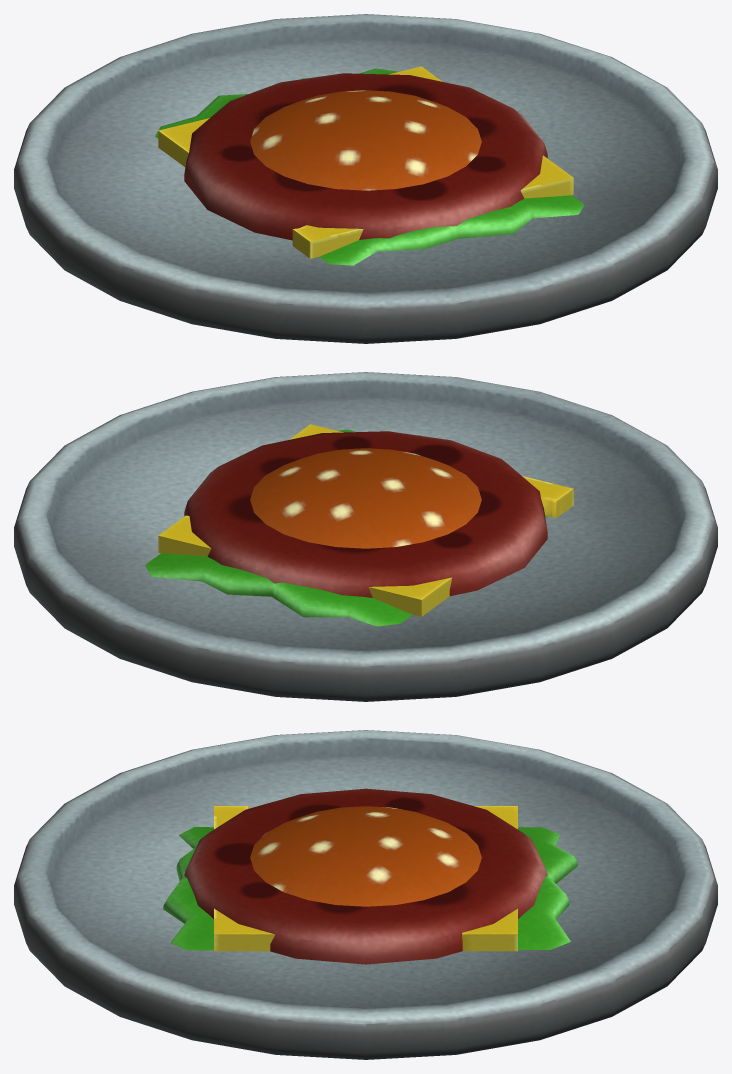
The model's file is Hamburger.fbx.
3 views of the same model, one above another, from view 1: azimuth 30°, elevation 25°; view 2: azimuth 150°, elevation 25°; view 3: azimuth 270°, elevation 25° (orthographic).
Visible parts, largest first — view 1: Hamburger_Plate, Hamburger_Beef, Hamburger_Bun, Hamburger_Lettuce, Hamburger_Cheese; view 2: Hamburger_Plate, Hamburger_Beef, Hamburger_Bun, Hamburger_Lettuce, Hamburger_Cheese; view 3: Hamburger_Plate, Hamburger_Beef, Hamburger_Bun, Hamburger_Lettuce, Hamburger_Cheese.
Boxes of the visible parts, bbox=[...] form: Hamburger_Plate: bbox=[14, 14, 717, 343]; Hamburger_Beef: bbox=[184, 73, 547, 240]; Hamburger_Bun: bbox=[250, 90, 481, 190]; Hamburger_Lettuce: bbox=[155, 68, 584, 265]; Hamburger_Cheese: bbox=[158, 66, 573, 258]; Hamburger_Plate: bbox=[14, 372, 717, 701]; Hamburger_Beef: bbox=[184, 431, 547, 597]; Hamburger_Bun: bbox=[250, 448, 481, 548]; Hamburger_Lettuce: bbox=[145, 429, 574, 626]; Hamburger_Cheese: bbox=[158, 424, 573, 616]; Hamburger_Plate: bbox=[14, 730, 717, 1059]; Hamburger_Beef: bbox=[184, 788, 547, 964]; Hamburger_Bun: bbox=[250, 806, 481, 906]; Hamburger_Lettuce: bbox=[163, 827, 577, 950]; Hamburger_Cheese: bbox=[214, 806, 517, 951].
Bounding box in the file's own units: 158 × 30.05 × 158.
